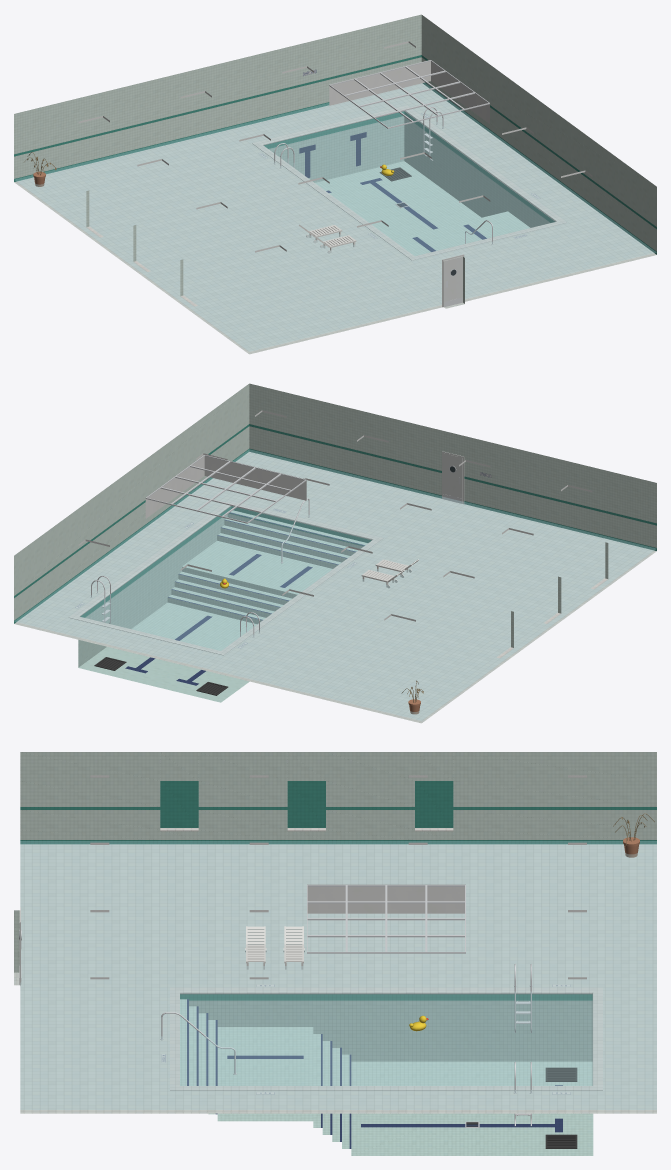
Rendered from sub_pool_03.glb.
The picture shows the model from 3 angles, top to bottom: view 1: azimuth 30°, elevation 25°; view 2: azimuth 150°, elevation 25°; view 3: azimuth 270°, elevation 25°; orthographic projection. The views are drawn at different scales.
Visible parts, largest first — view 1: Pool_Water, Tile_Deck, Tile_Wall, Tile_Pool, Tile_Accent, Ceiling_Paint, Tile_Lip, Chrome, Tile_Lane, DoorLeaf_atrium, Plastic_White; view 2: Pool_Water, Tile_Deck, Tile_Wall, Tile_Pool, Tile_Accent, Ceiling_Paint, Tile_Lip, Chrome, Tile_Lane, DoorLeaf_atrium, Plastic_White, Grate_Iron; view 3: Pool_Water, Tile_Deck, Tile_Wall, Tile_Pool, Tile_Accent, Tile_Lip, Ceiling_Paint, Chrome, Tile_Lane, Plastic_White, Grate_Iron.
Part boxes in pixels (<box>): Pool_Water: <box>15,83,656,351</box>; Tile_Deck: <box>14,83,656,354</box>; Tile_Wall: <box>14,14,656,303</box>; Tile_Pool: <box>268,116,549,255</box>; Tile_Accent: <box>14,55,656,254</box>; Ceiling_Paint: <box>78,41,592,252</box>; Tile_Lip: <box>86,105,566,306</box>; Chrome: <box>273,60,493,244</box>; Tile_Lane: <box>299,132,486,251</box>; DoorLeaf_atrium: <box>443,256,462,307</box>; Plastic_White: <box>299,224,356,253</box>; Pool_Water: <box>14,449,655,720</box>; Tile_Deck: <box>14,452,656,723</box>; Tile_Wall: <box>14,383,656,647</box>; Tile_Pool: <box>78,510,367,702</box>; Tile_Accent: <box>14,424,656,623</box>; Ceiling_Paint: <box>78,410,592,621</box>; Tile_Lip: <box>68,500,607,658</box>; Chrome: <box>90,455,310,637</box>; Tile_Lane: <box>125,512,364,685</box>; DoorLeaf_atrium: <box>443,453,462,503</box>; Plastic_White: <box>361,559,418,588</box>; Grate_Iron: <box>94,657,228,695</box>; Pool_Water: <box>20,841,656,1109</box>; Tile_Deck: <box>14,844,656,1113</box>; Tile_Wall: <box>14,752,656,972</box>; Tile_Pool: <box>180,999,593,1155</box>; Tile_Accent: <box>20,781,656,1000</box>; Tile_Lip: <box>160,828,602,1090</box>; Ceiling_Paint: <box>90,775,586,979</box>; Chrome: <box>160,885,532,1127</box>; Tile_Lane: <box>187,999,562,1148</box>; Plastic_White: <box>245,926,304,969</box>; Grate_Iron: <box>466,1067,577,1148</box>.
Bounding box in the file's own units: 20.15 × 6.6 × 20.2.
Materials: 20 (9 with a texture image).
